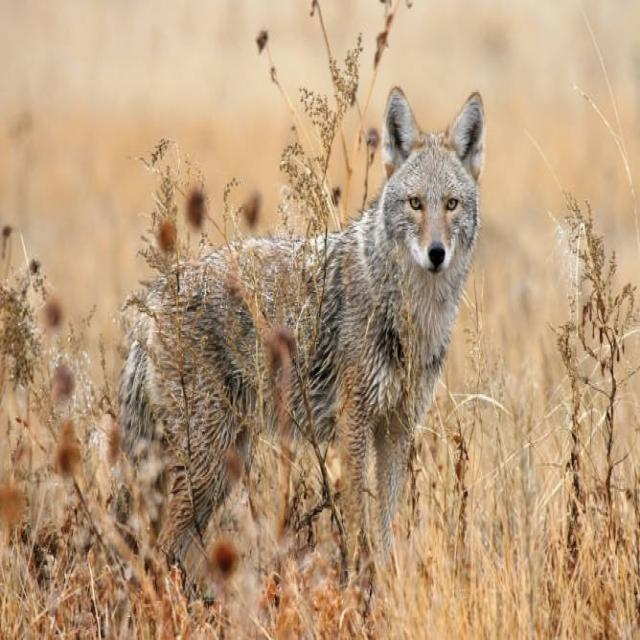Coyote: (135, 70, 490, 580)
